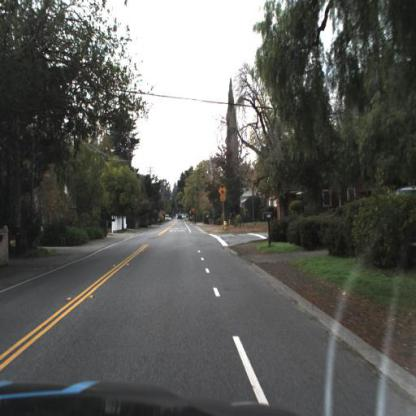car: (191, 216, 196, 223), (177, 217, 180, 220), (170, 218, 172, 221)
truck: (179, 214, 187, 221), (167, 214, 171, 222)
